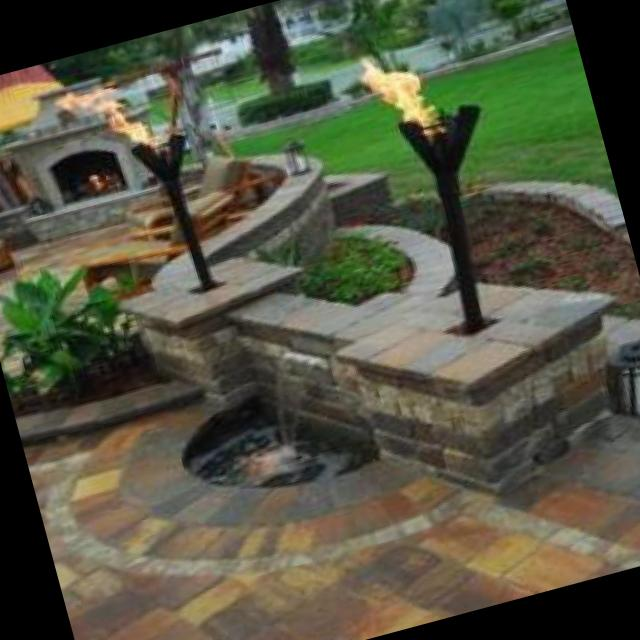fire: (52, 65, 169, 177), (346, 29, 450, 142)
